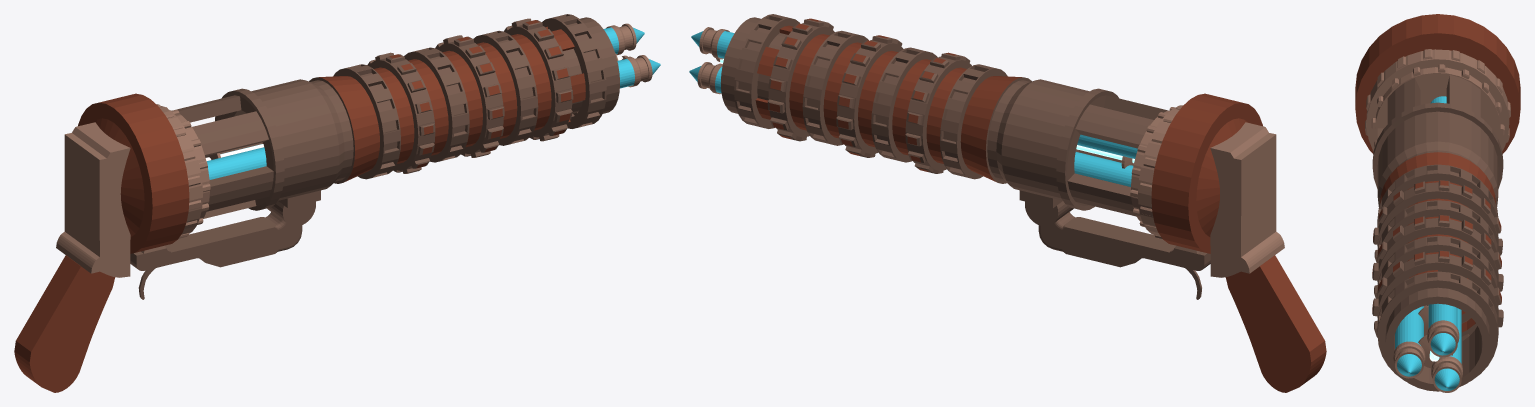
The model's file is weaponJoin.fbx.
3 renders of one model, left to right at view 1: azimuth 30°, elevation 25°; view 2: azimuth 150°, elevation 25°; view 3: azimuth 270°, elevation 25°, orthographic. The views are drawn at different scales.
Visible parts, largest first — view 1: Cube; view 2: Cube; view 3: Cube.
Boxes of the visible parts, left/top/right/bottom form: Cube: left=14, top=14, right=660, bottom=392; Cube: left=689, top=14, right=1326, bottom=392; Cube: left=1355, top=14, right=1520, bottom=392.
Bounding box in the file's own units: 367 × 148 × 78.99.
